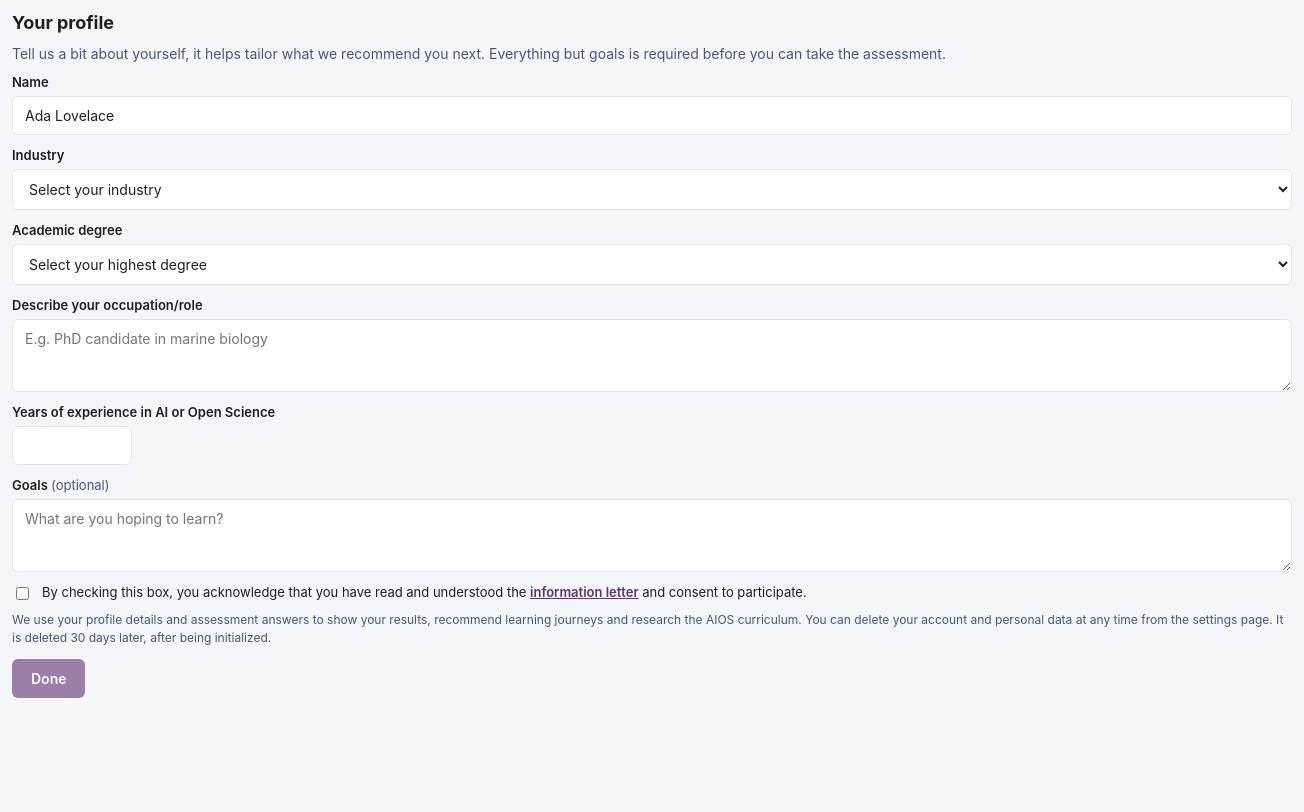
Test: ProfileForm › information letter consent (first-time profile step) › saves nothing when recording the acceptance fails
The width and height of the screenshot is (1304, 812).
Check: the field labelled "Name" is enabled, box [12,96,1292,135]
Select "Government" in the dropdown labelled "Industry" at {"x": 652, "y": 190}, box [12,169,1292,210]
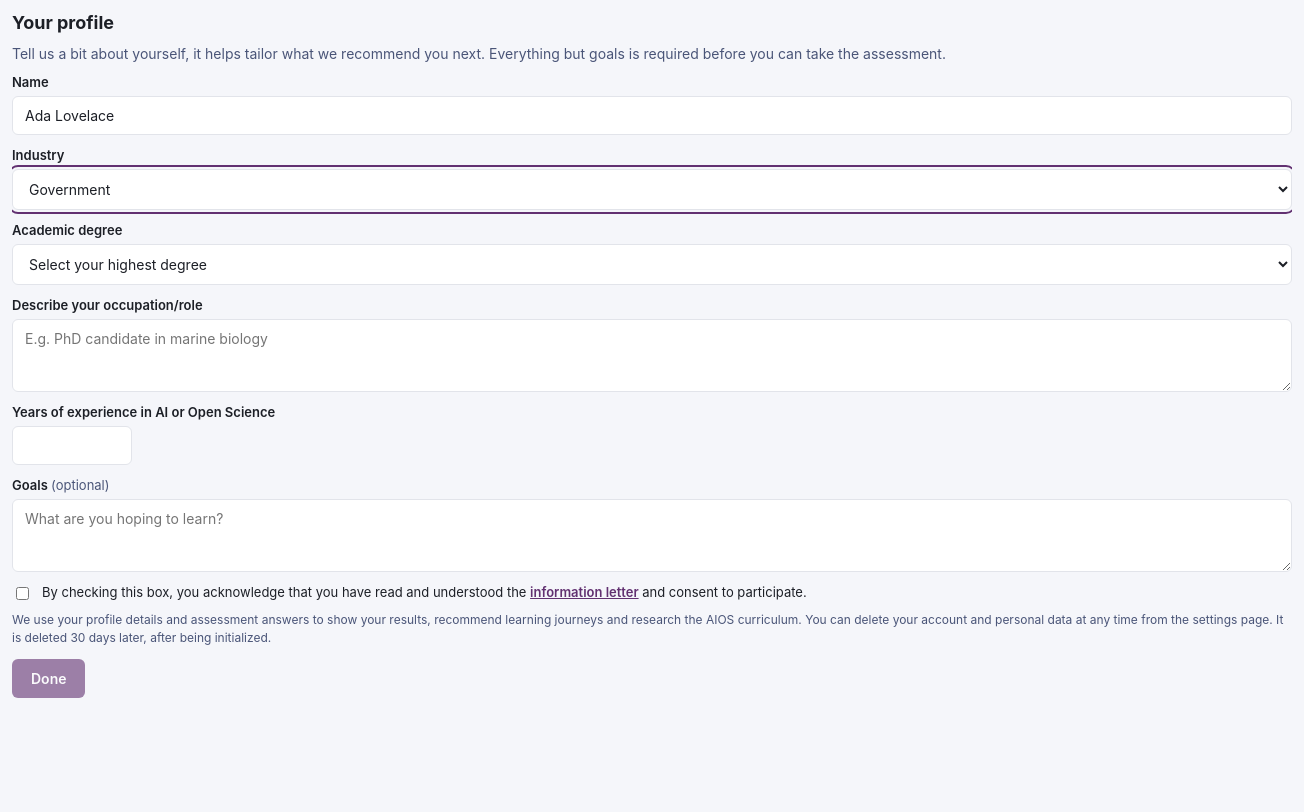
Select "Master's" in the dropdown labelled "Academic degree" at {"x": 652, "y": 264}, box [12,244,1292,285]
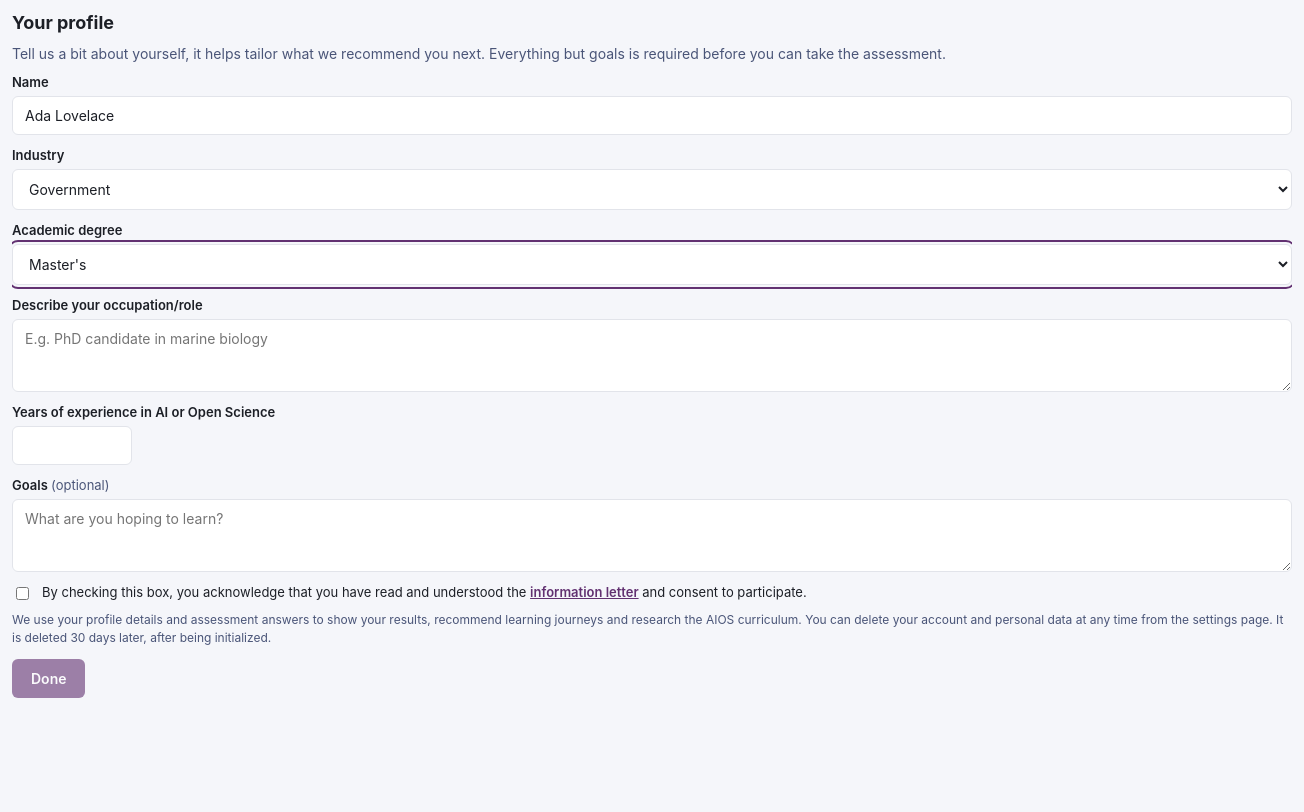
Type "  Data steward  " into the text box labelled "Describe your occupation/role".
click(652, 356); type("  Data steward  ")  # box [12,319,1292,392]
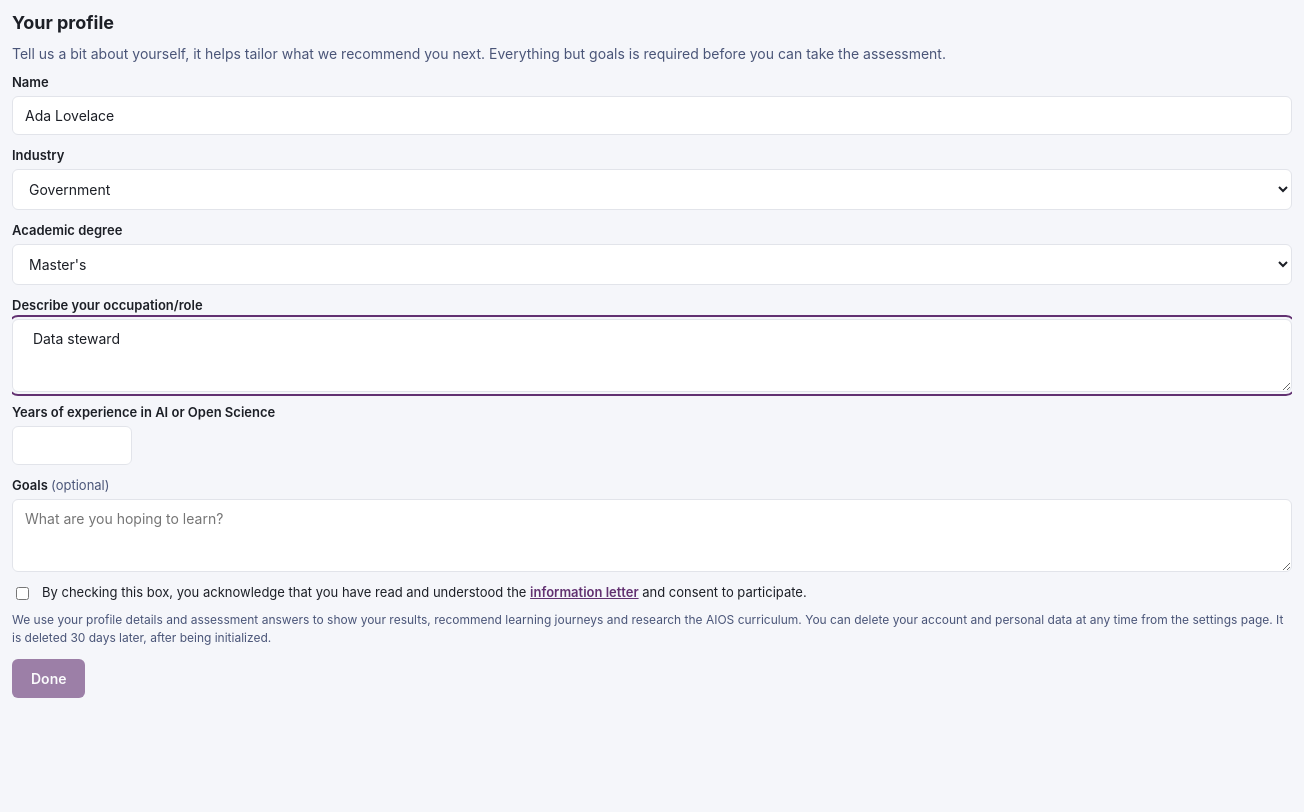
Type "2" into the number field labelled "Years of experience in AI or Open Science".
click(72, 446); type("2")  # box [12,426,132,465]
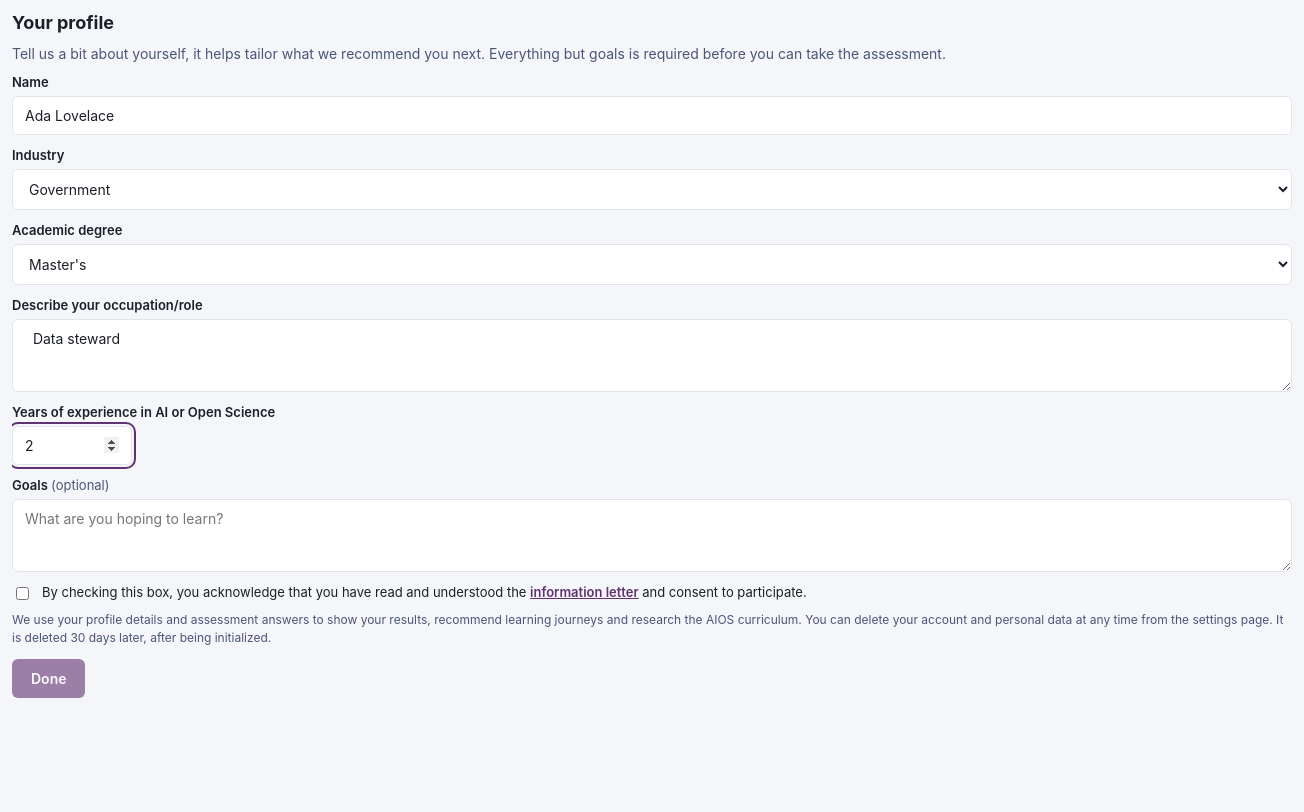
Click the checkbox.
click(22, 594)  # box [16,587,29,600]
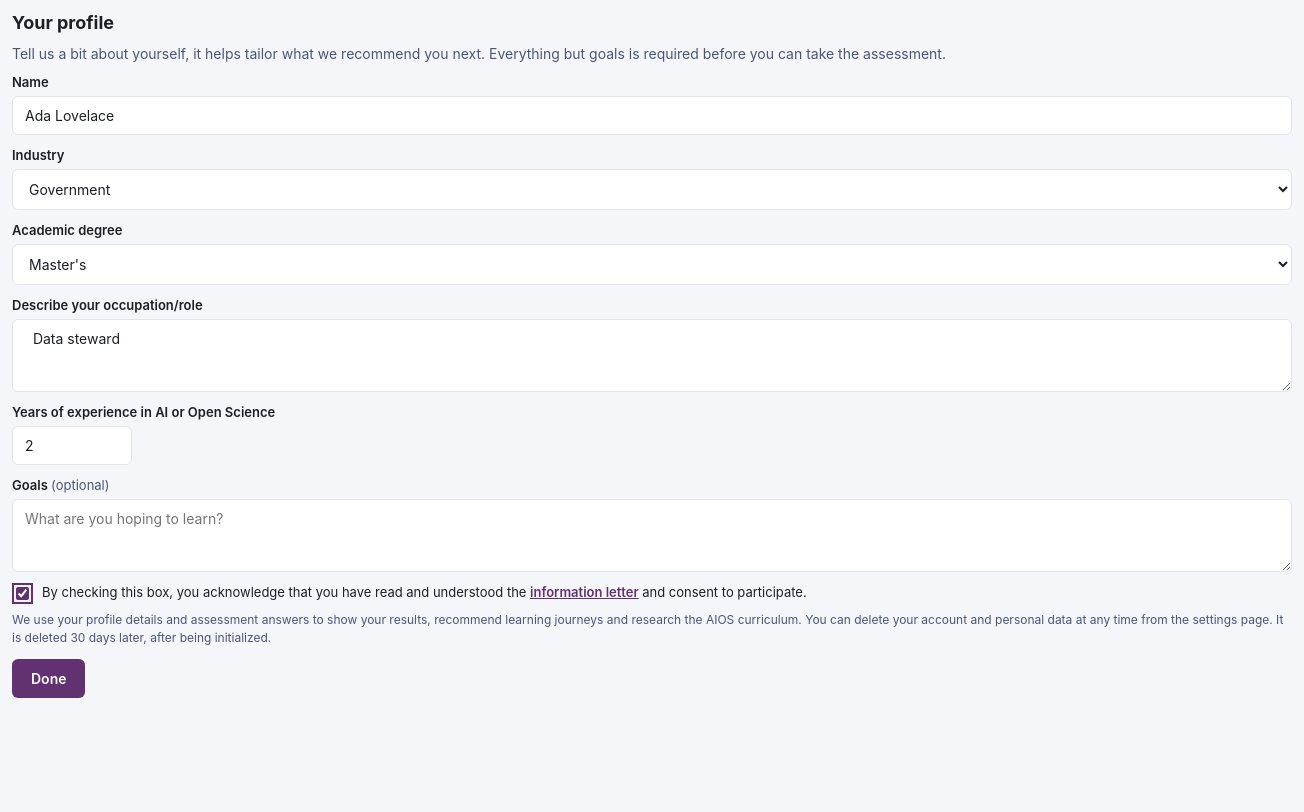
Click the button "Done".
click(49, 678)  # box [12,659,86,698]
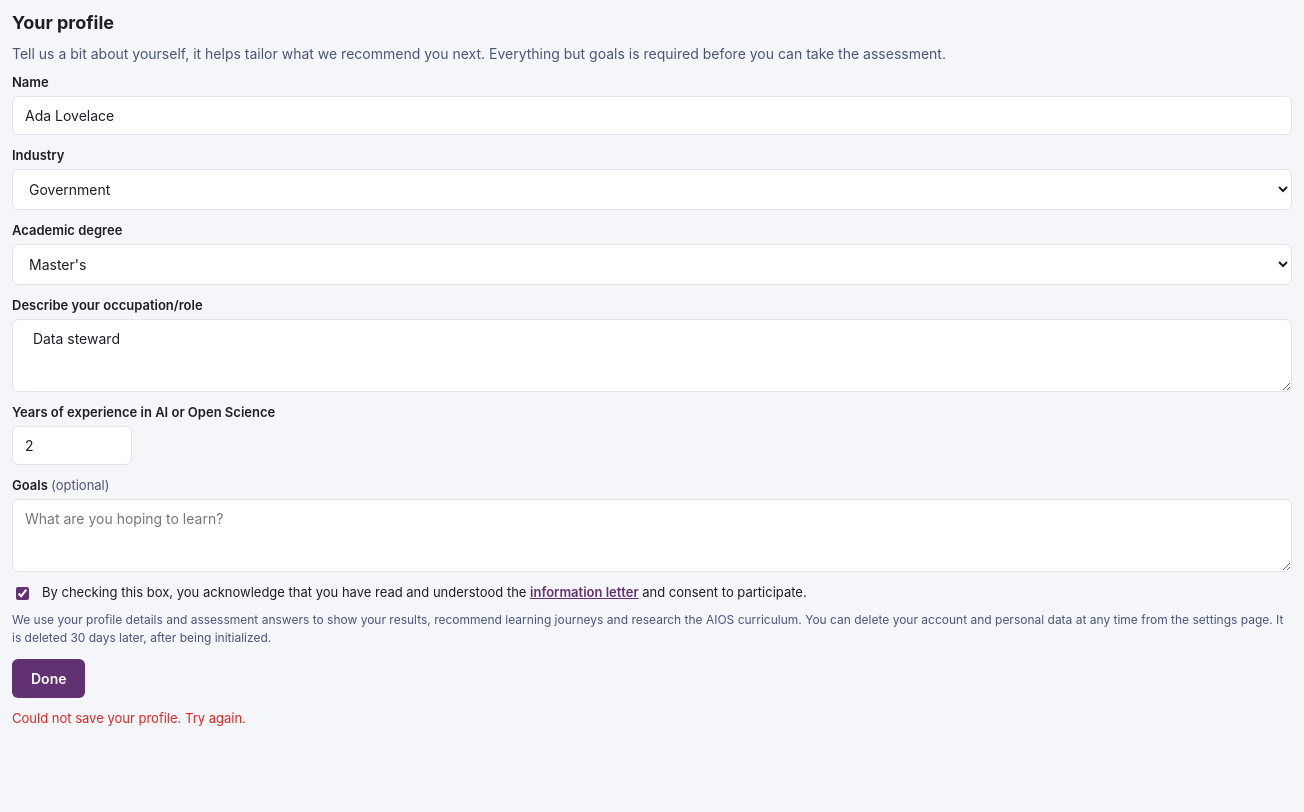
Check: the text "Could not save your profile. Try again." is shown, box [12,710,246,726]
